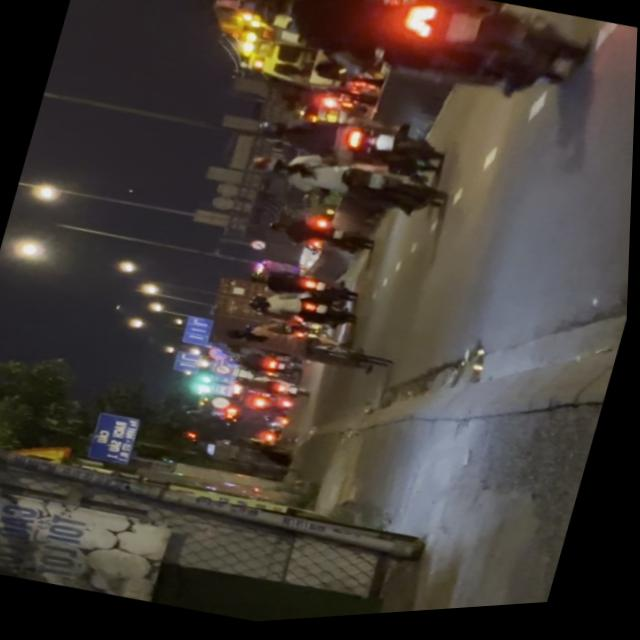helmet: (227, 0, 302, 33)
licenseplate: (213, 0, 601, 139)
nohelmet: (442, 13, 481, 52)
